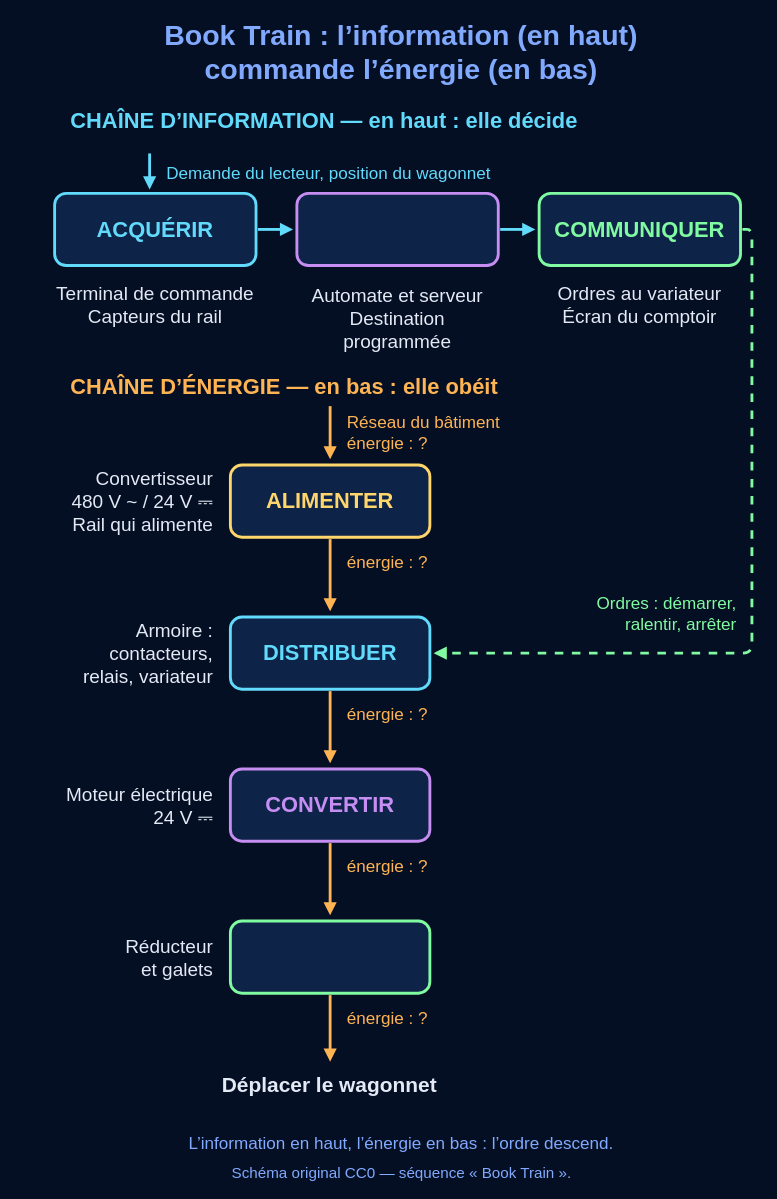
This 777x1199 diagram has some shape labels left out. Each missing label, with the centre of its shape:
TRAITER: the point at 397,228
TRANSMETTRE: the point at 329,956
